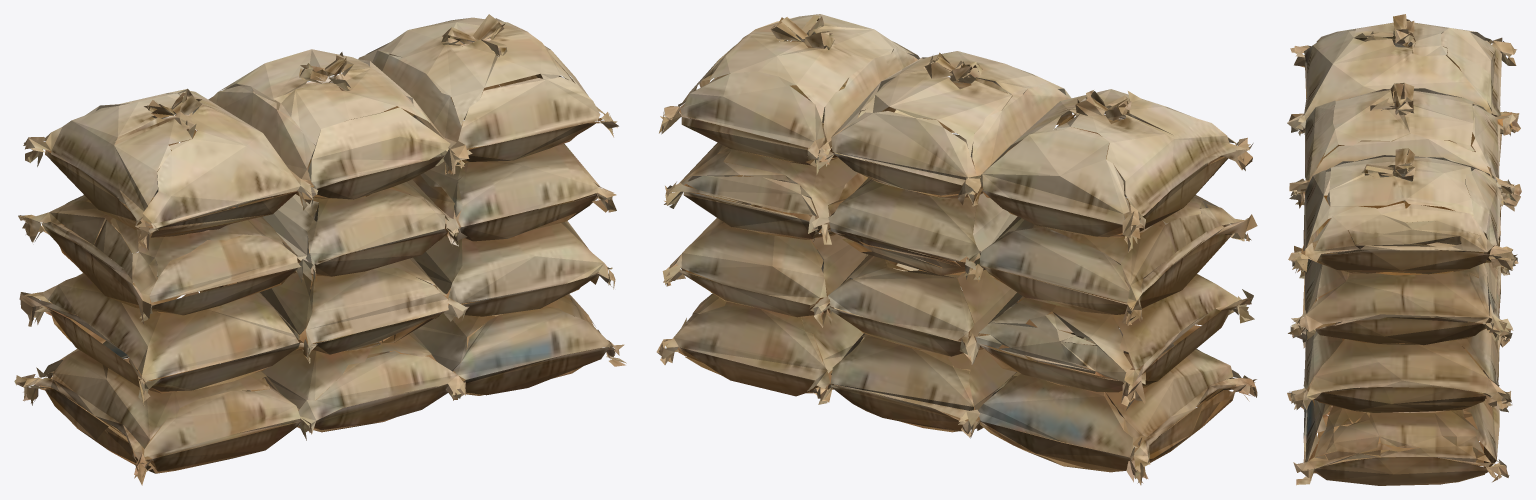
File: sandbag_wall.glb
3 views of the same model, side by side, from view 1: azimuth 30°, elevation 25°; view 2: azimuth 150°, elevation 25°; view 3: azimuth 270°, elevation 25° (orthographic). The views are drawn at different scales.
Visible parts, largest first — view 1: obj.obj; view 2: obj.obj; view 3: obj.obj.
Boxes of the visible parts, x1=… form: obj.obj: x1=14, y1=14, x2=626, y2=485; obj.obj: x1=656, y1=14, x2=1257, y2=485; obj.obj: x1=1287, y1=14, x2=1521, y2=485.
Size of the model in its own units: 1.49 by 1 by 0.6852.
1 material, 1 textured.
